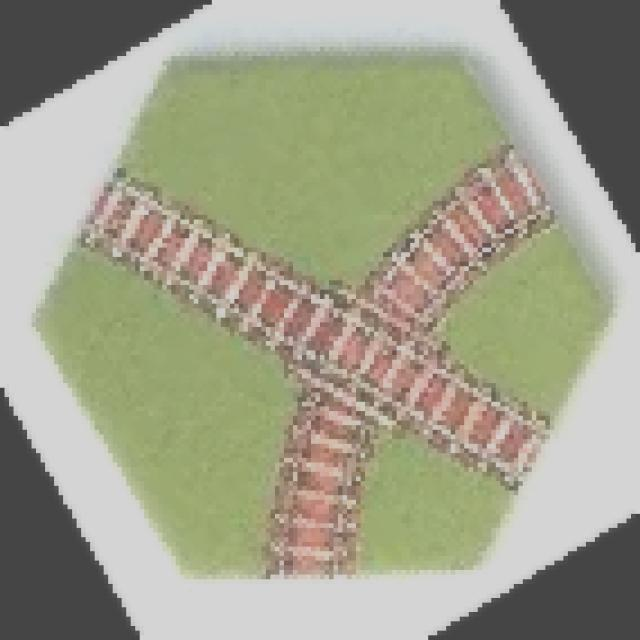8_2: (27, 49, 621, 584)
